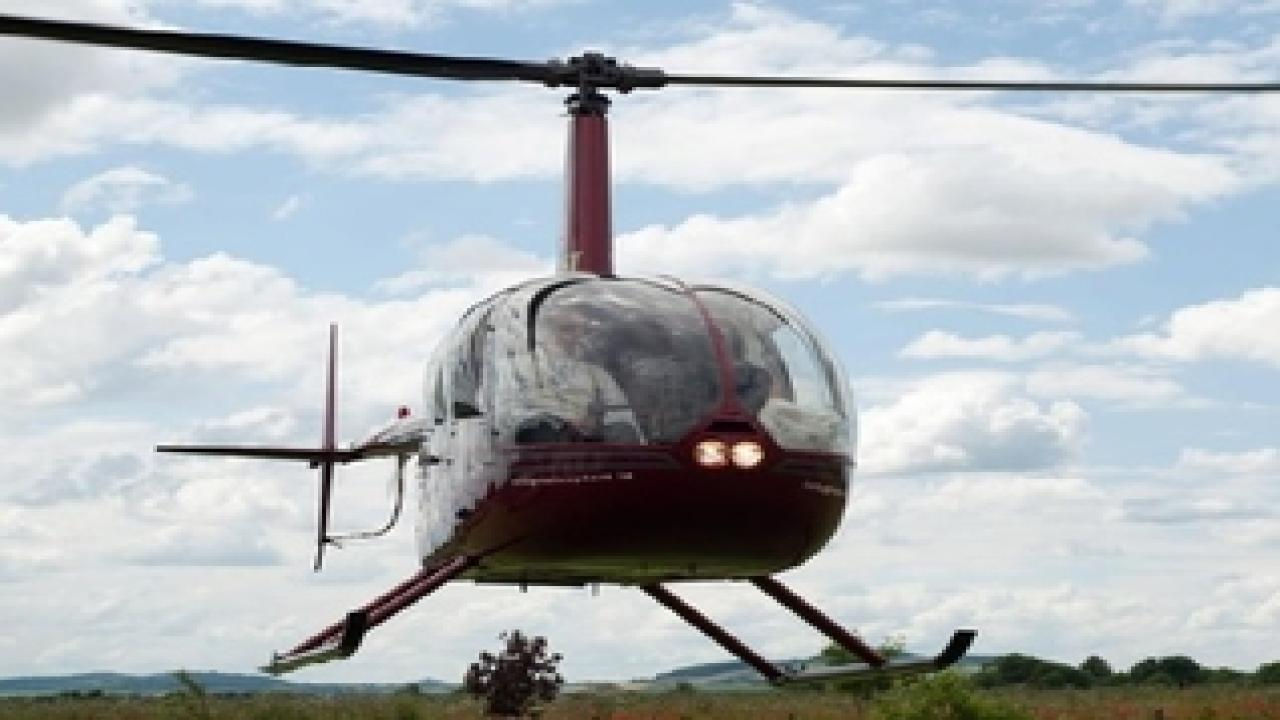Helicopter: (0, 9, 1280, 698)
